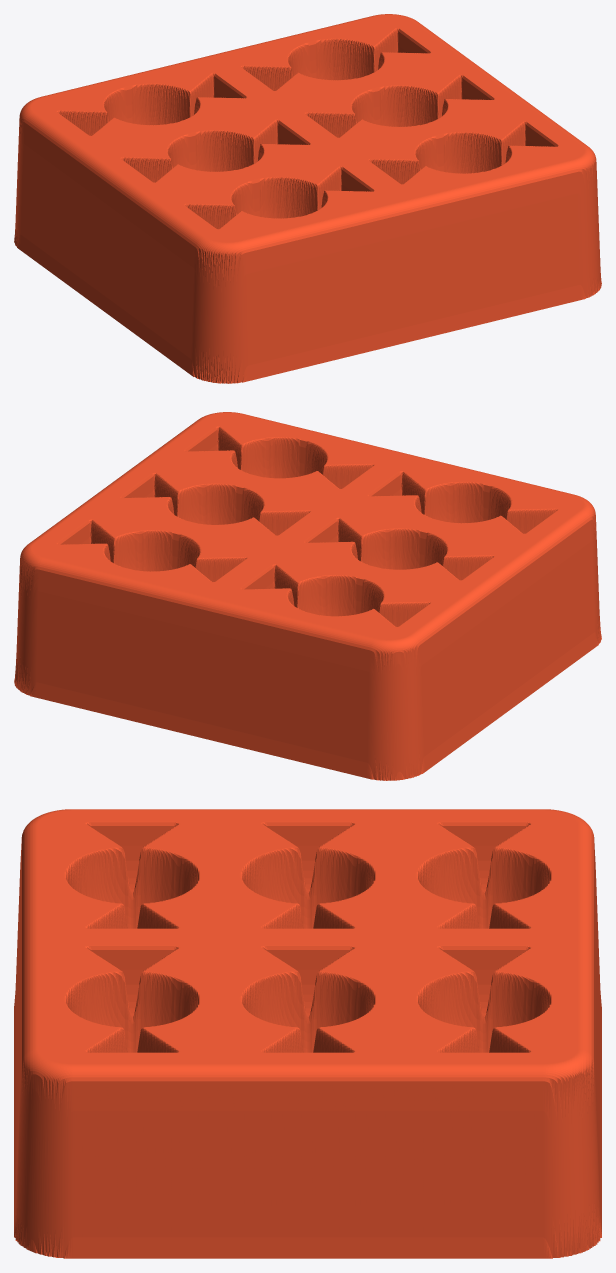
Rendered from mold.glb.
3 views of the same model, one above another, from view 1: azimuth 30°, elevation 25°; view 2: azimuth 150°, elevation 25°; view 3: azimuth 270°, elevation 25° (orthographic). The views are drawn at different scales.
Parts seen in each view (by area): view 1: geometry_0; view 2: geometry_0; view 3: geometry_0.
Boxes of the visible parts, bbox=[...] form: geometry_0: bbox=[14, 14, 601, 383]; geometry_0: bbox=[14, 412, 601, 780]; geometry_0: bbox=[14, 809, 601, 1258].
Size of the model in its own units: 0.0996 by 0.0314 by 0.0905.
